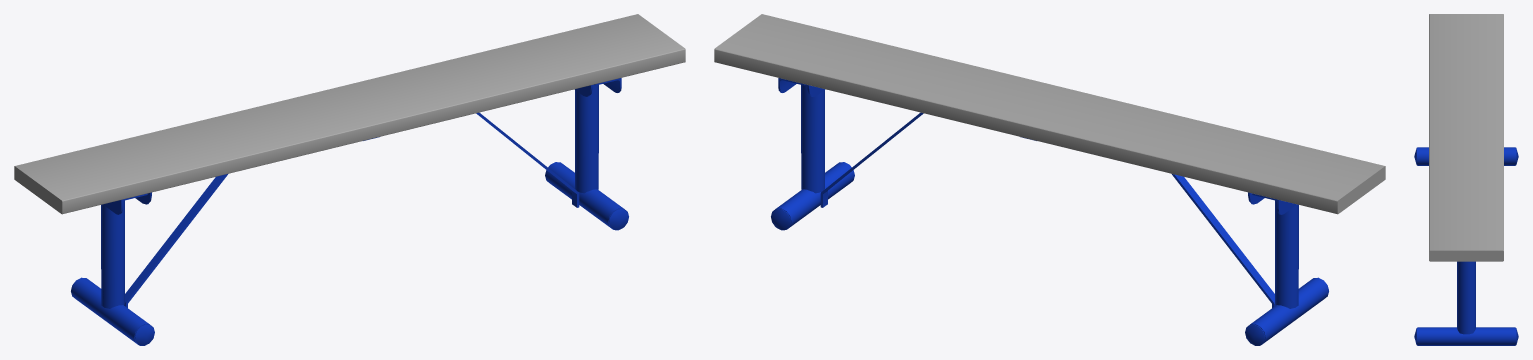
The picture shows the model from 3 angles, left to right: view 1: azimuth 30°, elevation 25°; view 2: azimuth 150°, elevation 25°; view 3: azimuth 270°, elevation 25°; orthographic projection. The views are drawn at different scales.
Parts seen in each view (by area): view 1: mesh42_mesh42-geometry, mesh27_mesh27-geometry, mesh13_mesh13-geometry, mesh12_mesh12-geometry, mesh26_mesh26-geometry, mesh38_mesh38-geometry, mesh40_mesh40-geometry; view 2: mesh42_mesh42-geometry, mesh27_mesh27-geometry, mesh13_mesh13-geometry, mesh12_mesh12-geometry, mesh26_mesh26-geometry, mesh38_mesh38-geometry, mesh40_mesh40-geometry; view 3: mesh42_mesh42-geometry, mesh26_mesh26-geometry, mesh27_mesh27-geometry, mesh12_mesh12-geometry.
Part boxes in pixels (x1=…): mesh42_mesh42-geometry: x1=14, y1=14, x2=685, y2=214; mesh27_mesh27-geometry: x1=575, y1=84, x2=598, y2=193; mesh13_mesh13-geometry: x1=101, y1=200, x2=124, y2=308; mesh12_mesh12-geometry: x1=71, y1=277, x2=154, y2=345; mesh26_mesh26-geometry: x1=545, y1=162, x2=628, y2=230; mesh38_mesh38-geometry: x1=124, y1=174, x2=227, y2=307; mesh40_mesh40-geometry: x1=476, y1=112, x2=579, y2=207; mesh42_mesh42-geometry: x1=714, y1=14, x2=1385, y2=214; mesh27_mesh27-geometry: x1=801, y1=84, x2=824, y2=193; mesh13_mesh13-geometry: x1=1275, y1=200, x2=1298, y2=308; mesh12_mesh12-geometry: x1=1245, y1=277, x2=1328, y2=345; mesh26_mesh26-geometry: x1=771, y1=162, x2=854, y2=230; mesh38_mesh38-geometry: x1=1172, y1=174, x2=1275, y2=307; mesh40_mesh40-geometry: x1=820, y1=112, x2=923, y2=207; mesh42_mesh42-geometry: x1=1429, y1=14, x2=1503, y2=261; mesh26_mesh26-geometry: x1=1417, y1=327, x2=1515, y2=345; mesh27_mesh27-geometry: x1=1457, y1=261, x2=1475, y2=334; mesh12_mesh12-geometry: x1=1417, y1=147, x2=1515, y2=165.
Size of the model in its own units: 0.9564 by 0.2311 by 0.1785.
